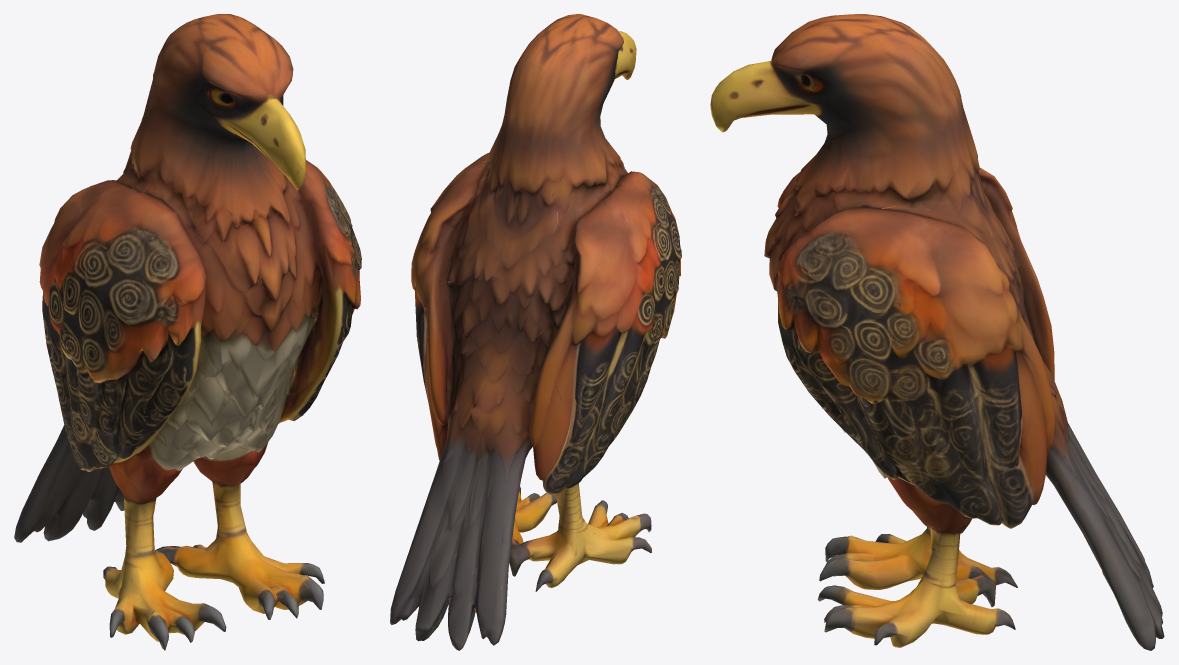
Rendered from mirasiharput-model.glb.
The picture shows the model from 3 angles, left to right: view 1: azimuth 30°, elevation 25°; view 2: azimuth 150°, elevation 25°; view 3: azimuth 270°, elevation 25°; orthographic projection. The views are drawn at different scales.
Parts seen in each view (by area): view 1: Mesh1.0; view 2: Mesh1.0; view 3: Mesh1.0.
Boxes of the visible parts, <box> form: Mesh1.0: <box>14,14,361,650</box>; Mesh1.0: <box>390,14,681,650</box>; Mesh1.0: <box>710,14,1164,650</box>.
Size of the model in its own units: 0.9066 by 2.01 by 1.36.
Materials: 1 (1 with a texture image).
